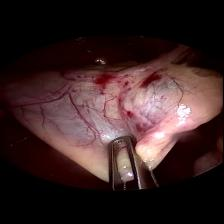Grasper: (104, 132, 158, 192)
